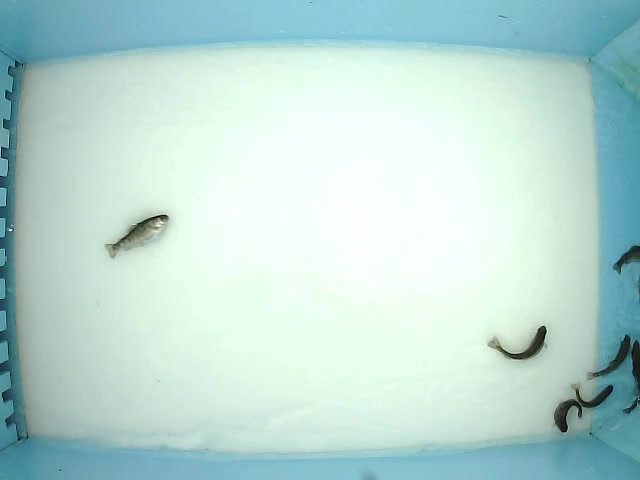fish: (104, 213, 170, 260), (486, 325, 549, 361), (585, 333, 632, 381), (570, 382, 614, 409), (553, 398, 583, 433)
